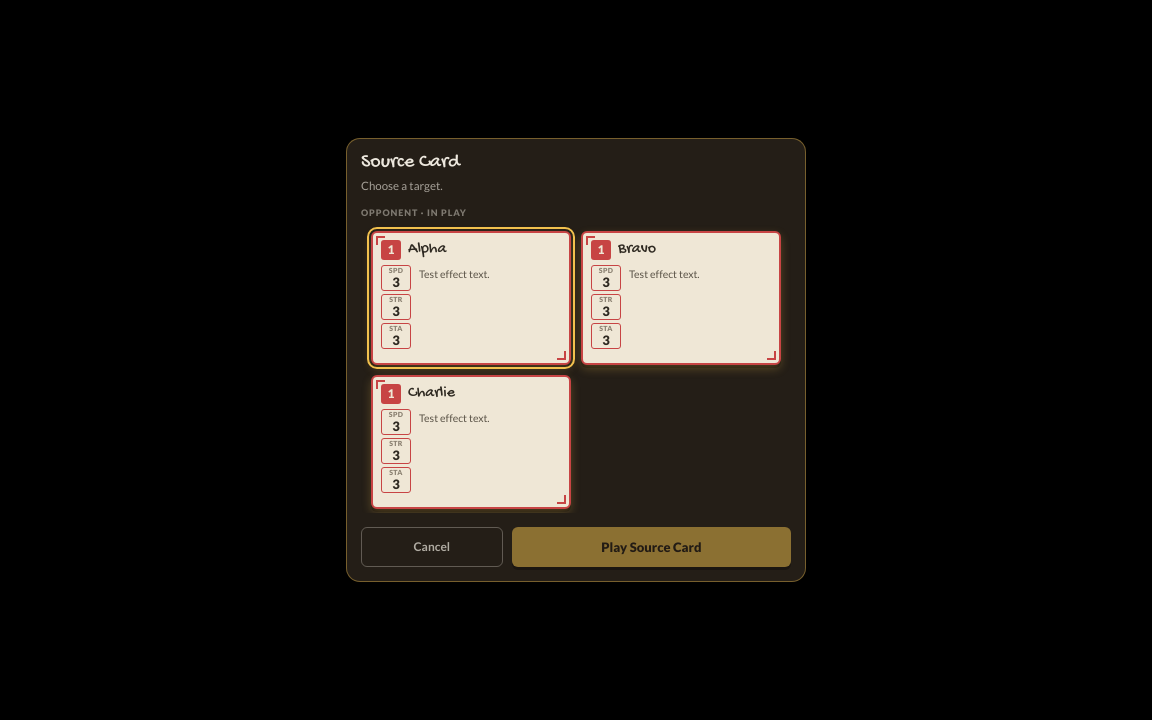
Test: TargetSelectionModal — selection semantics › single-select: clicking card A then card B leaves only B selected
Click the button with aria-label "Alpha card" at [471, 298], box [371, 231, 571, 365]
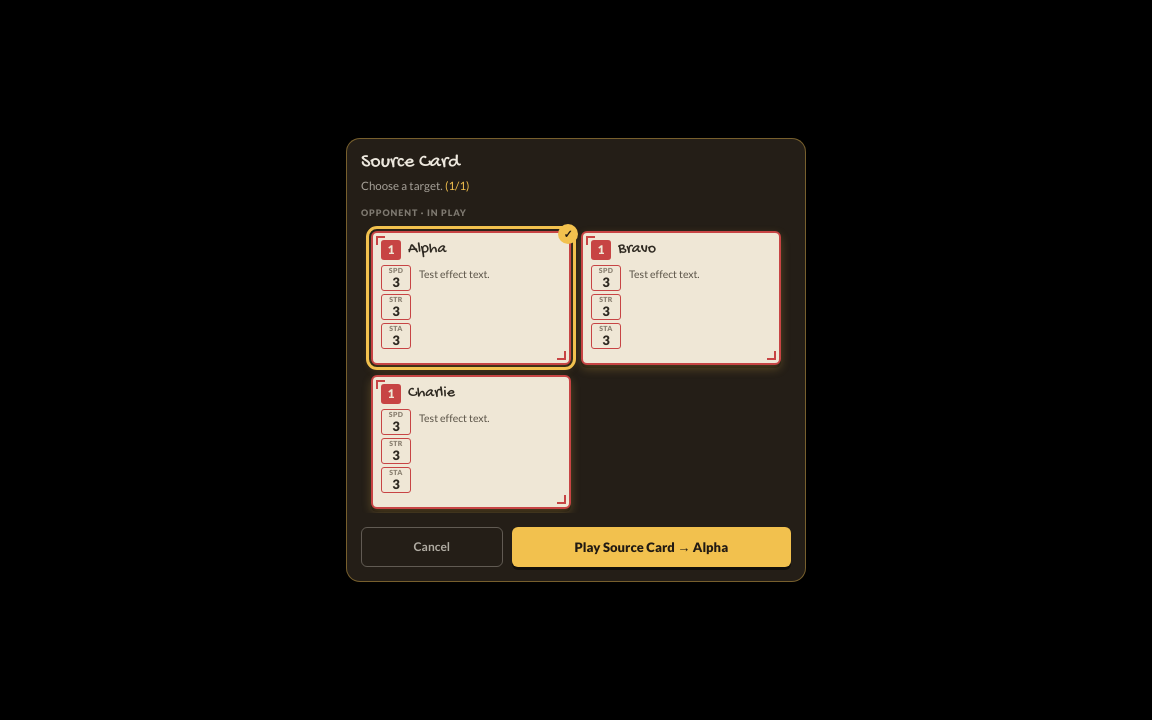
Now the button "Play Source Card → Alpha" is shown, box [512, 527, 791, 567]
Click the button "1 Bravo SPD 3 STR 3 STA 3 Test effect text." at [681, 298], box [581, 231, 781, 365]
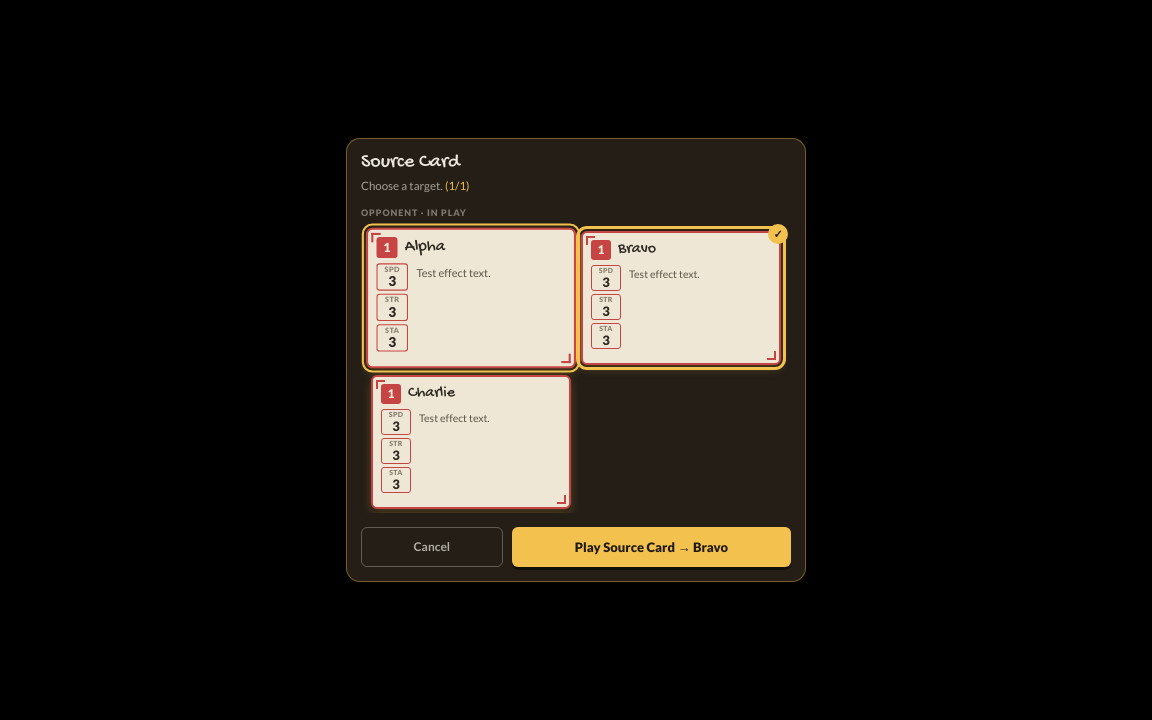
Now the button "Play Source Card → Bravo" is shown, box [512, 527, 791, 567]
Now the button "Play Source Card → Alpha" is gone
